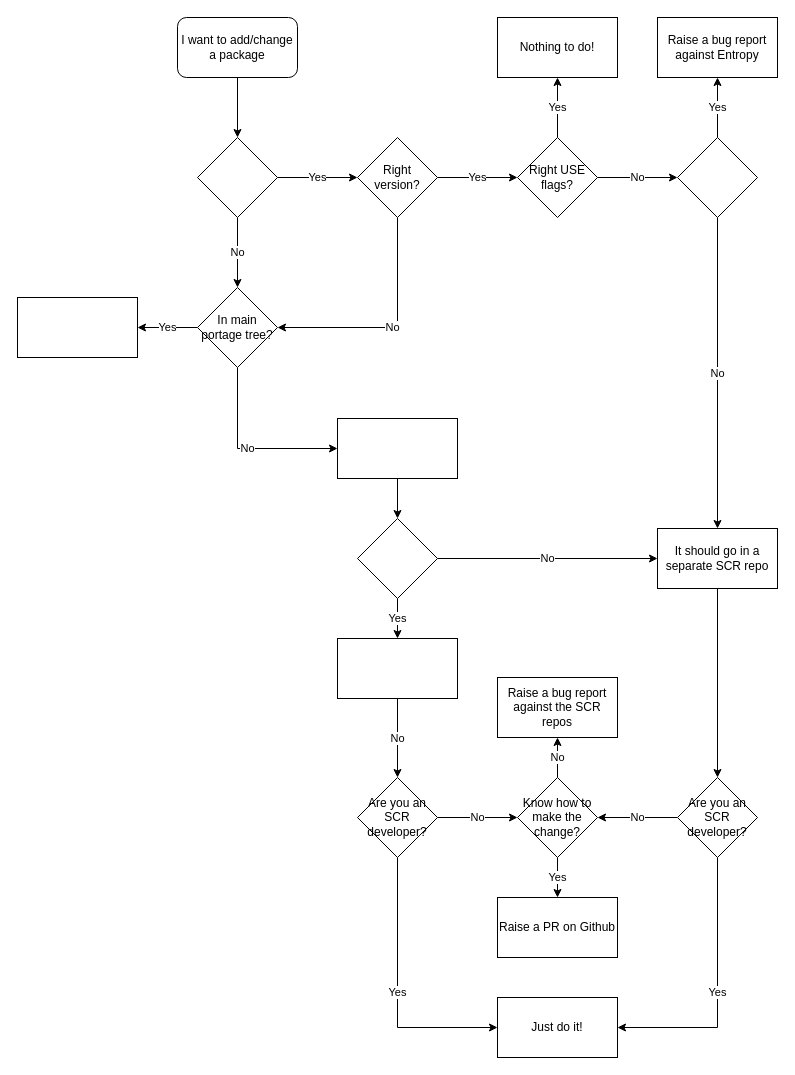
The diagram is 795 pixels wide and 1075 high, and some of its shapes have lost their labels. The centre of each missing label's shape, as x and y in pixels:
In Entropy?: the point at 237,177
It can go in "community" SCR repo: the point at 397,668
It should go in the SCR: the point at 397,448
Raise a bug report to add it to Entropy: the point at 77,327
Suitable for all?: the point at 397,558
USE changes suitable for all?: the point at 717,177
